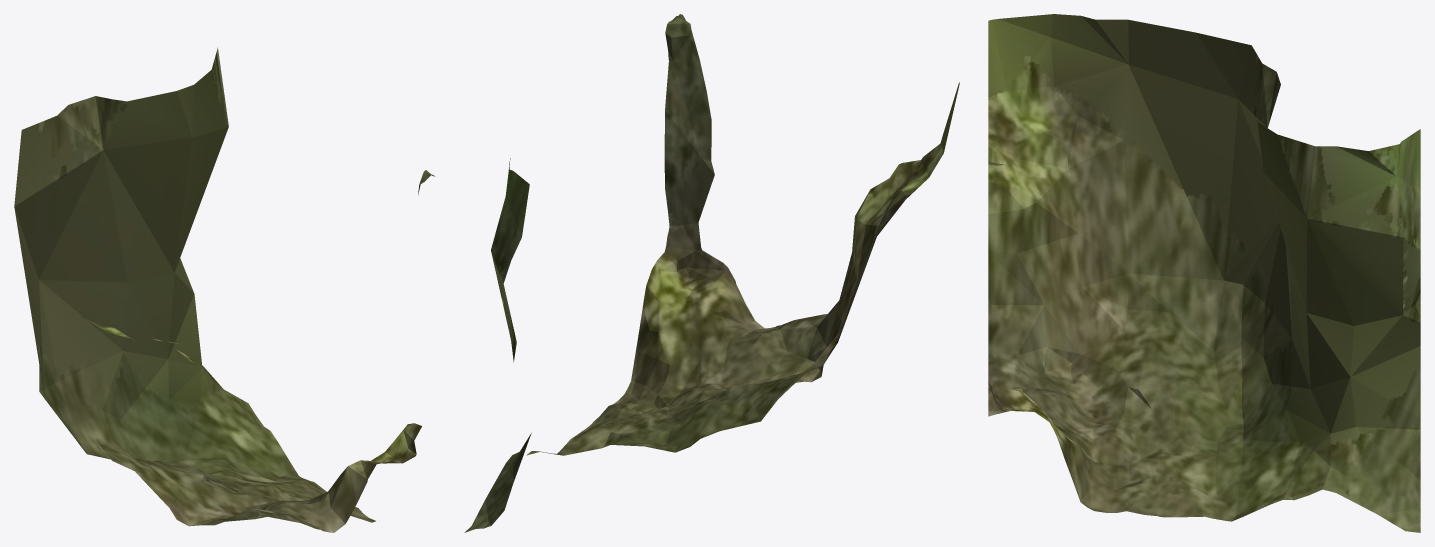
The picture shows the model from 3 angles, left to right: view 1: azimuth 30°, elevation 25°; view 2: azimuth 150°, elevation 25°; view 3: azimuth 270°, elevation 25°; orthographic projection. The views are drawn at different scales.
Size of the model in its own units: 2.39 by 2.8 by 2.95.
3 materials, 3 textured.
